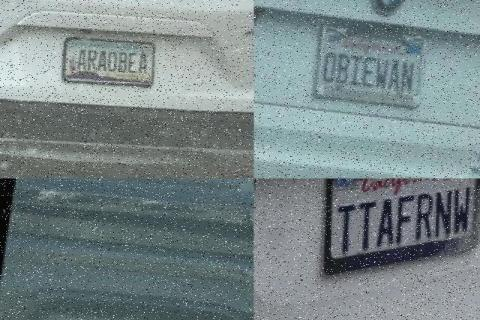LicensePlate: (320, 177, 476, 277), (300, 21, 434, 115), (55, 36, 150, 88), (111, 178, 209, 210)
